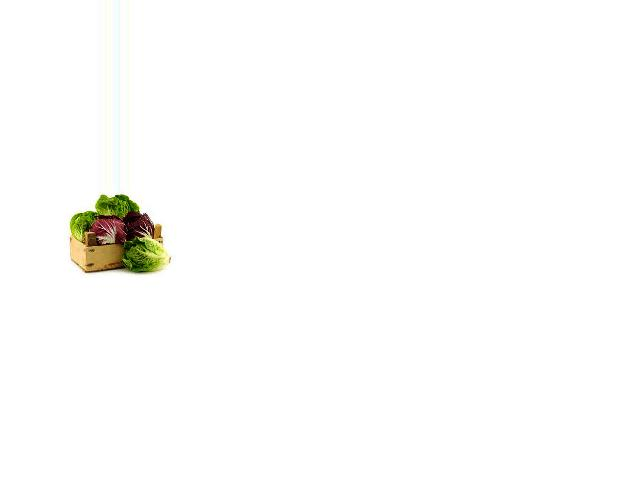lettuce: (95, 194, 139, 224)
